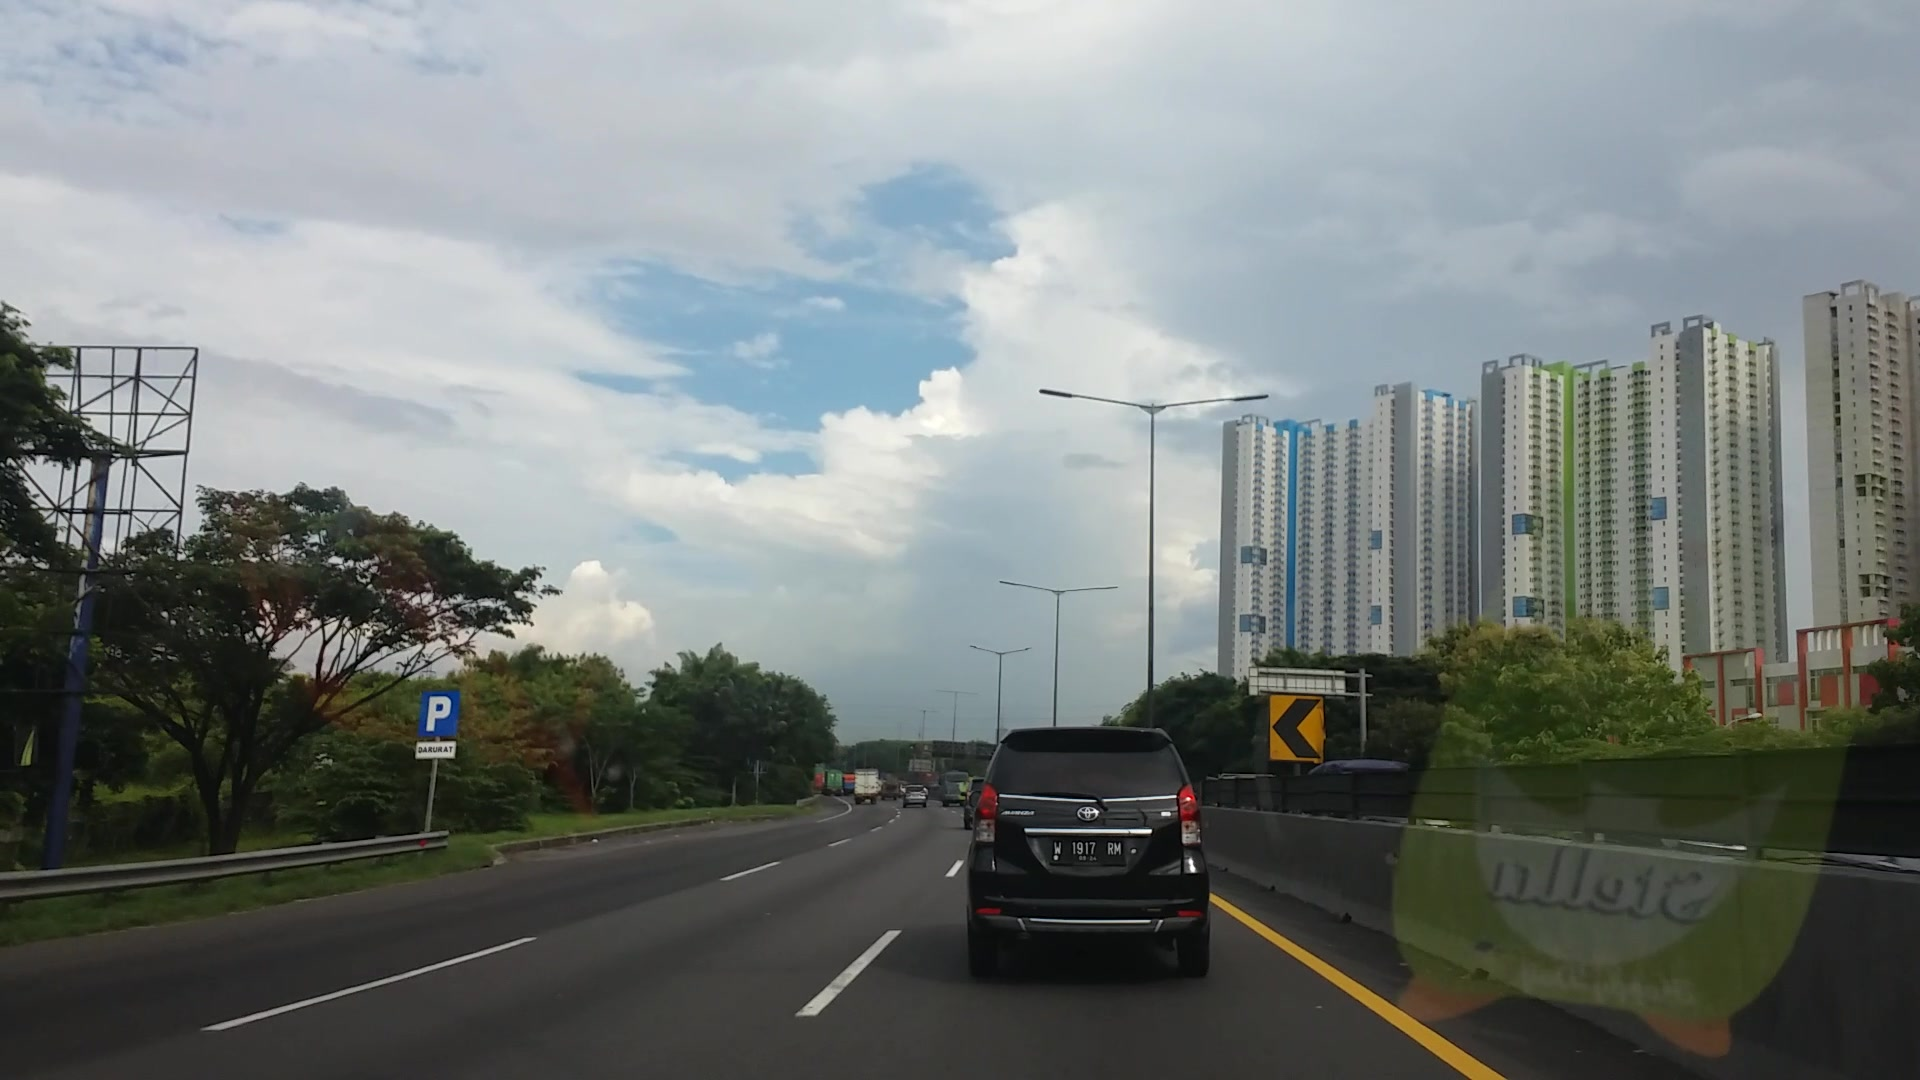plate_positive: (1048, 837, 1126, 865)
